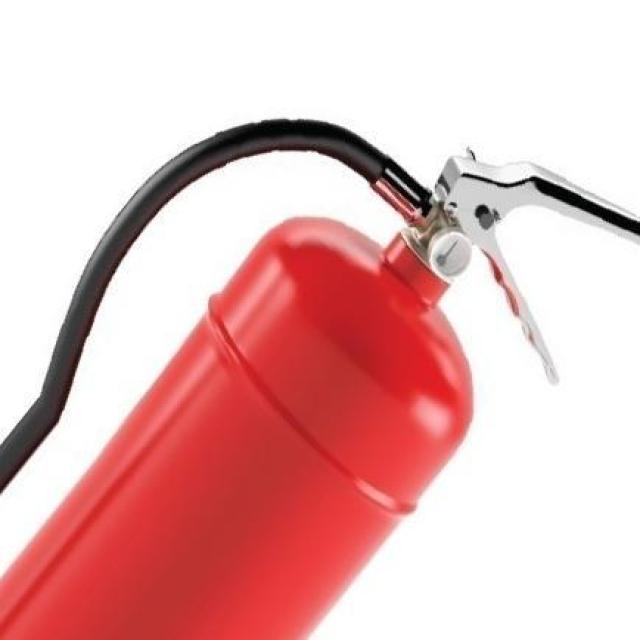fire_extinguisher: (0, 109, 637, 638)
